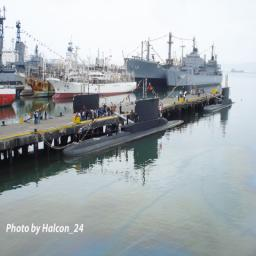submarine: (61, 95, 189, 159), (205, 81, 239, 116), (74, 91, 104, 113)
